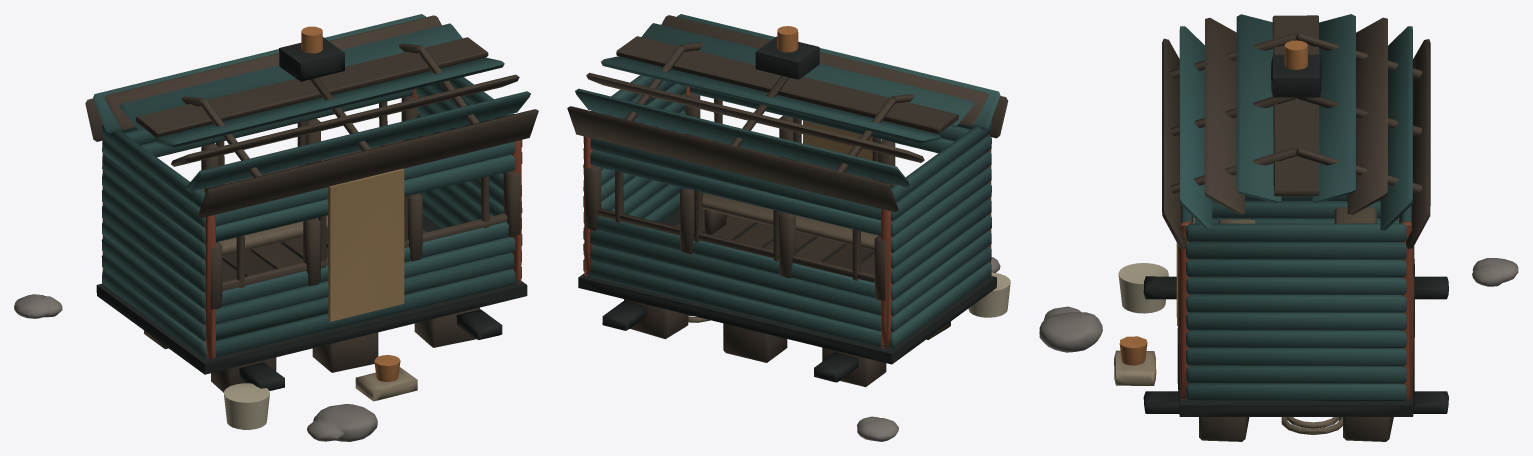
The model's file is tram_car_parked_a_lod1.glb.
3 views of the same model, side by side, from view 1: azimuth 30°, elevation 25°; view 2: azimuth 150°, elevation 25°; view 3: azimuth 270°, elevation 25° (orthographic). The views are drawn at different scales.
Parts seen in each view (by area): view 1: Surface.001; view 2: Surface.001; view 3: Surface.001.
Part boxes in pixels (x1,y1,x2,y2): Surface.001: (14, 14, 538, 441); Surface.001: (567, 14, 1010, 441); Surface.001: (1039, 14, 1518, 441).
Bounding box in the file's own units: 5.45 × 4.4 × 5.65.
